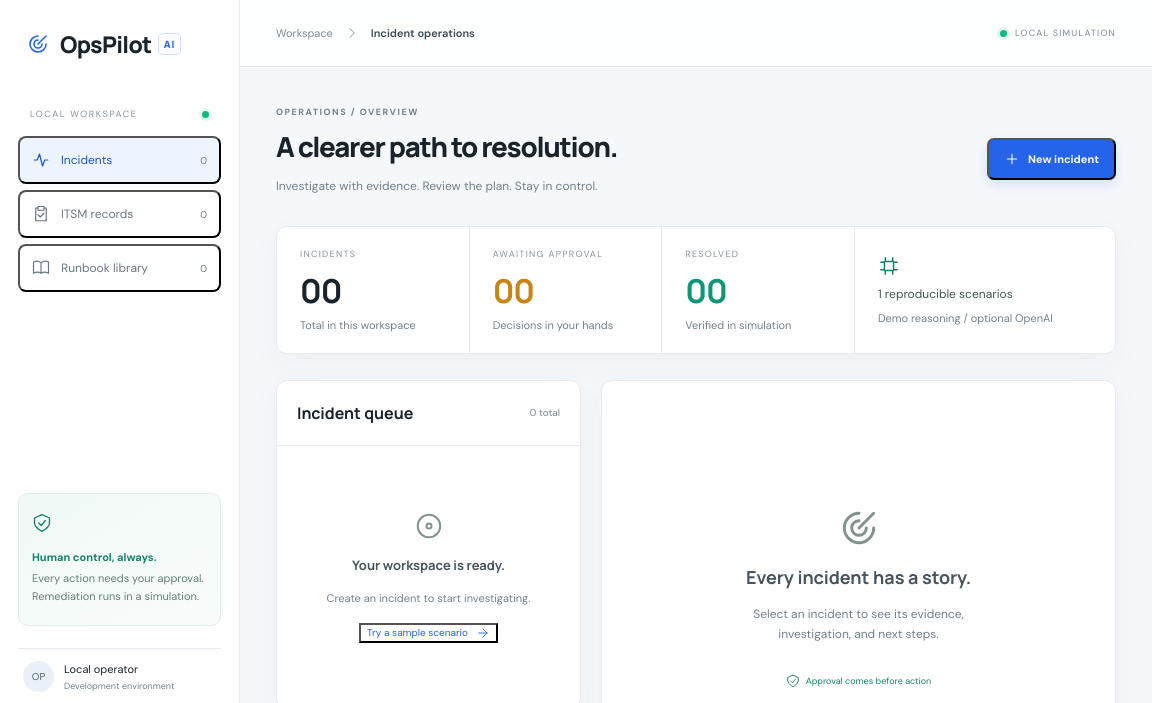
Test: dashboard › creates a scenario through the control plane
Step 1. Click the button "New incident" → (1052, 159), box [987,138,1116,180]
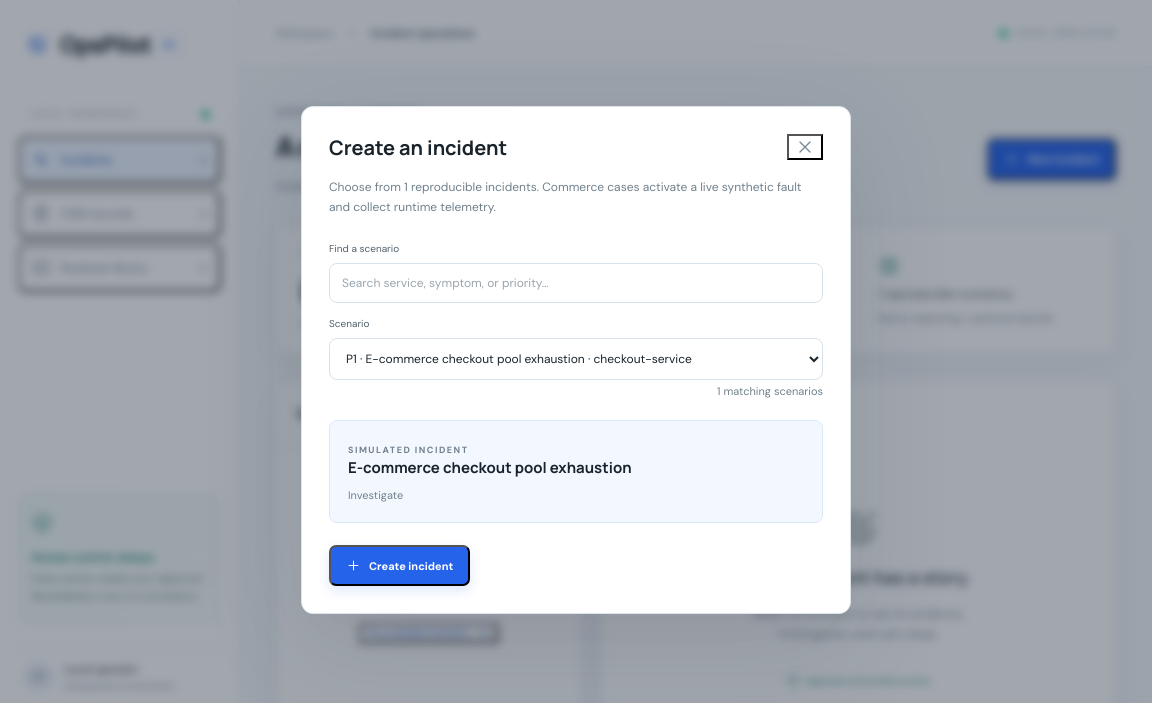
Step 2. Click the button "Create incident" → (400, 566), box [329,545,470,586]
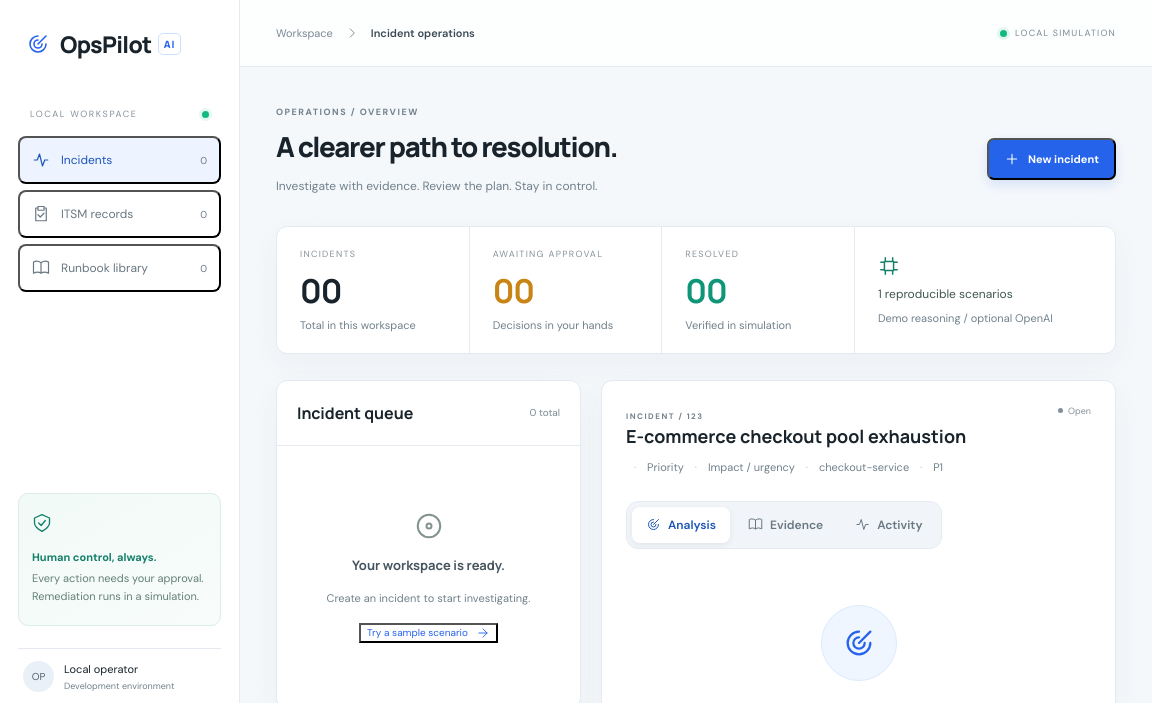
Result: the element showing "analysis evidence activity" is shown at [626,501,942,549]
